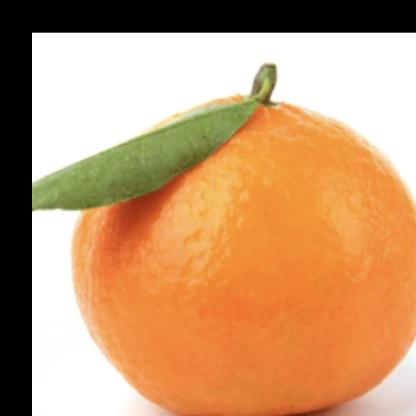fresh: (71, 78, 414, 416)
